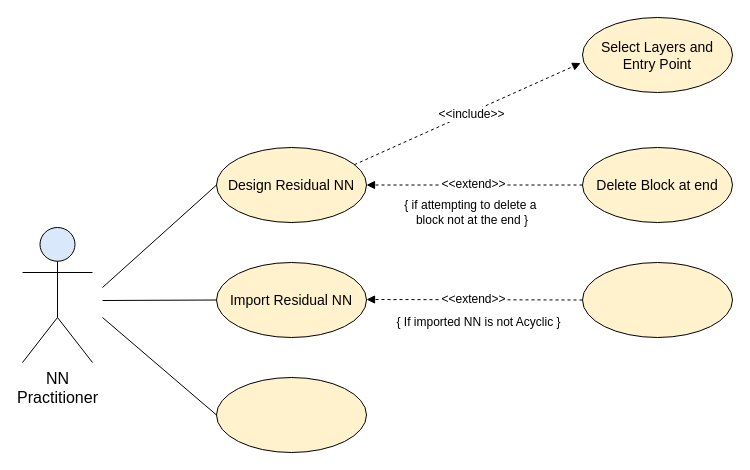
Some shapes in this 750 by 470 pixel diagram are drawn without their labels. Each missing label, with the centre of its shape:
"Enforce NN type" goes at point 657,300.
"Export Residual NN" goes at point 291,414.
